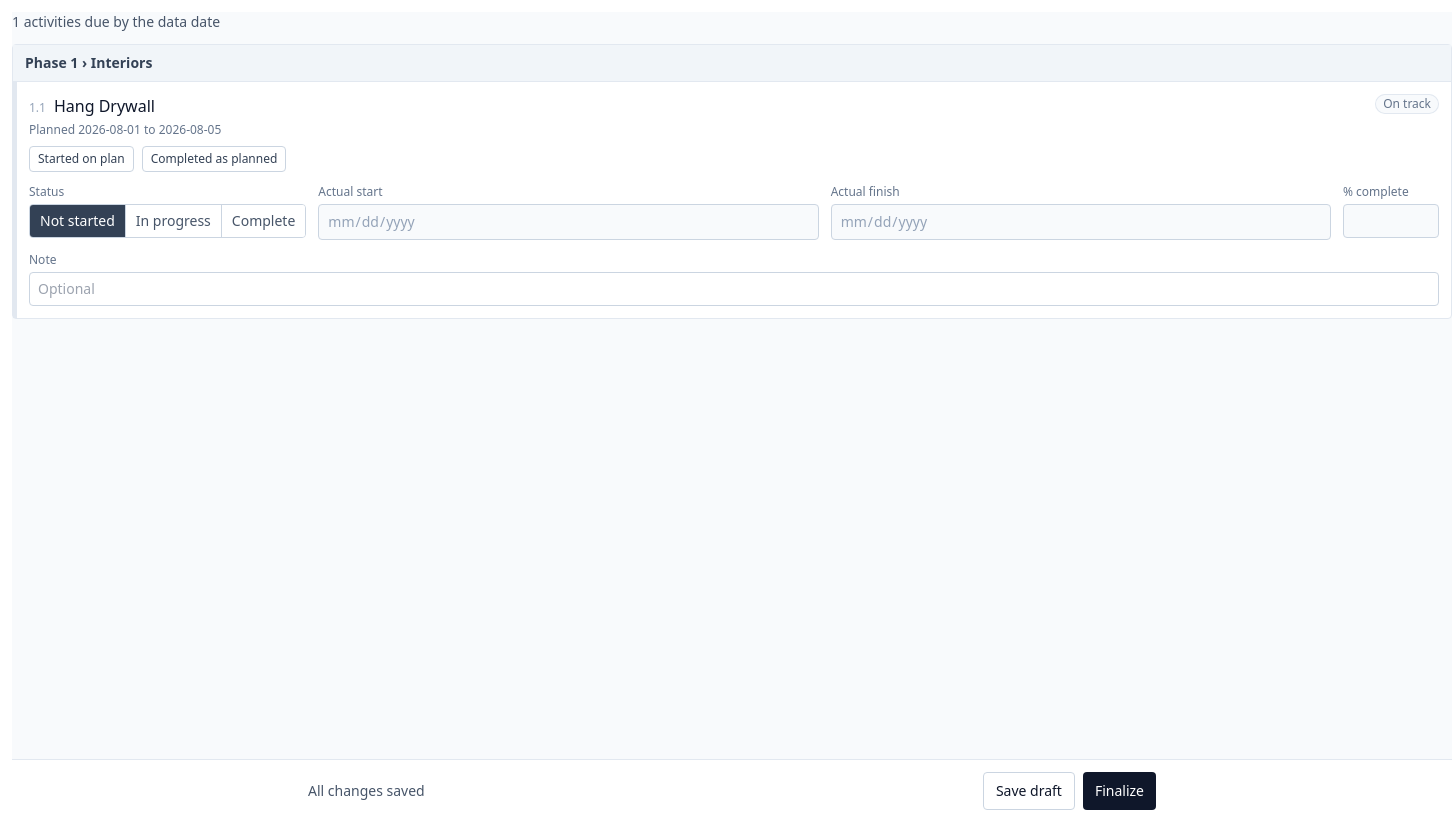
Test: LookaheadUpdateForm › quick actions fill from the plan
Click the button "Started on plan": (81, 159) [29,146,134,172]
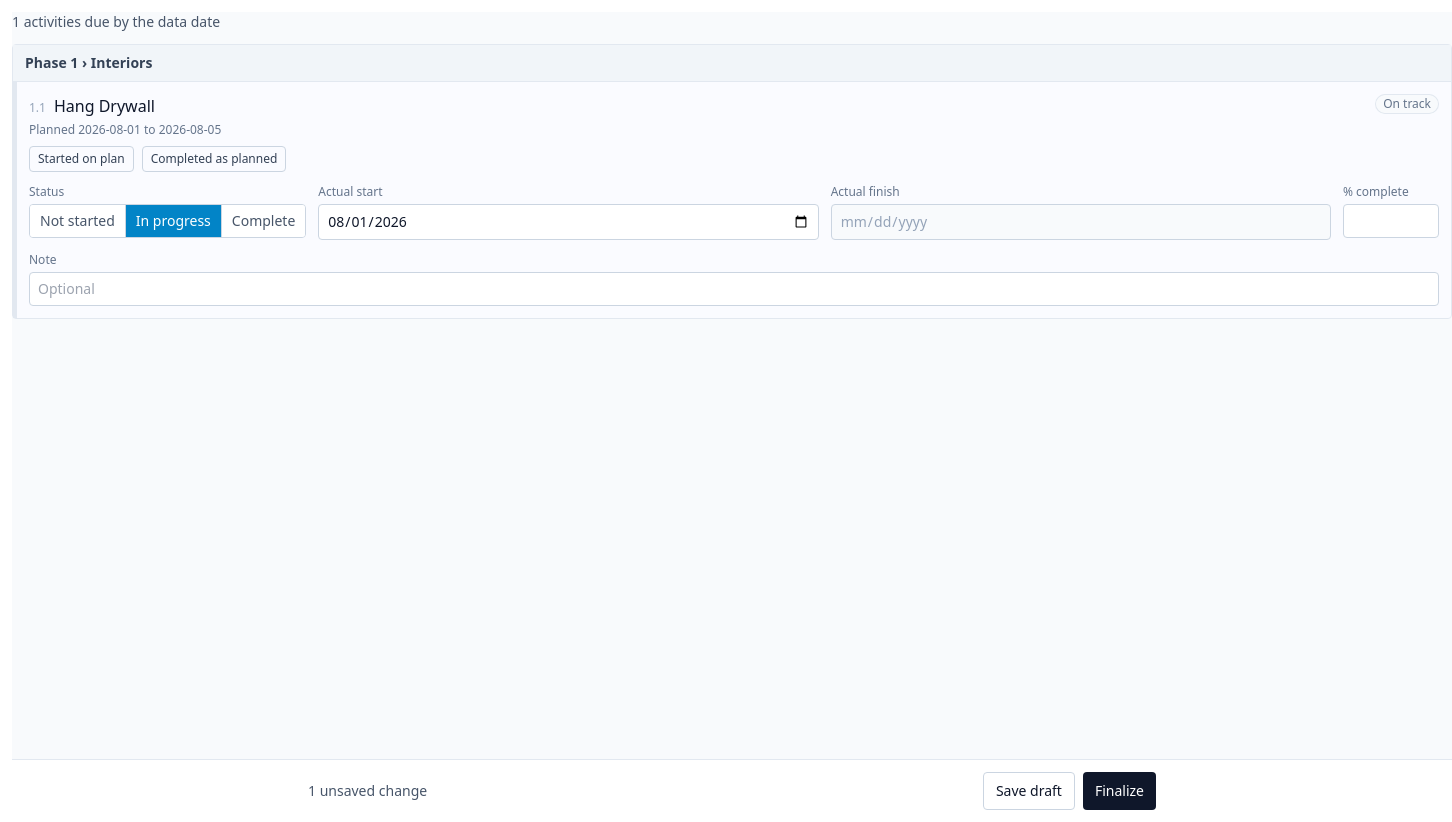
Expected: the date field labelled "Actual start" holds "2026-08-01", [318,204,819,240]
Click the button "Completed as planned": (214, 159) [142,146,286,172]
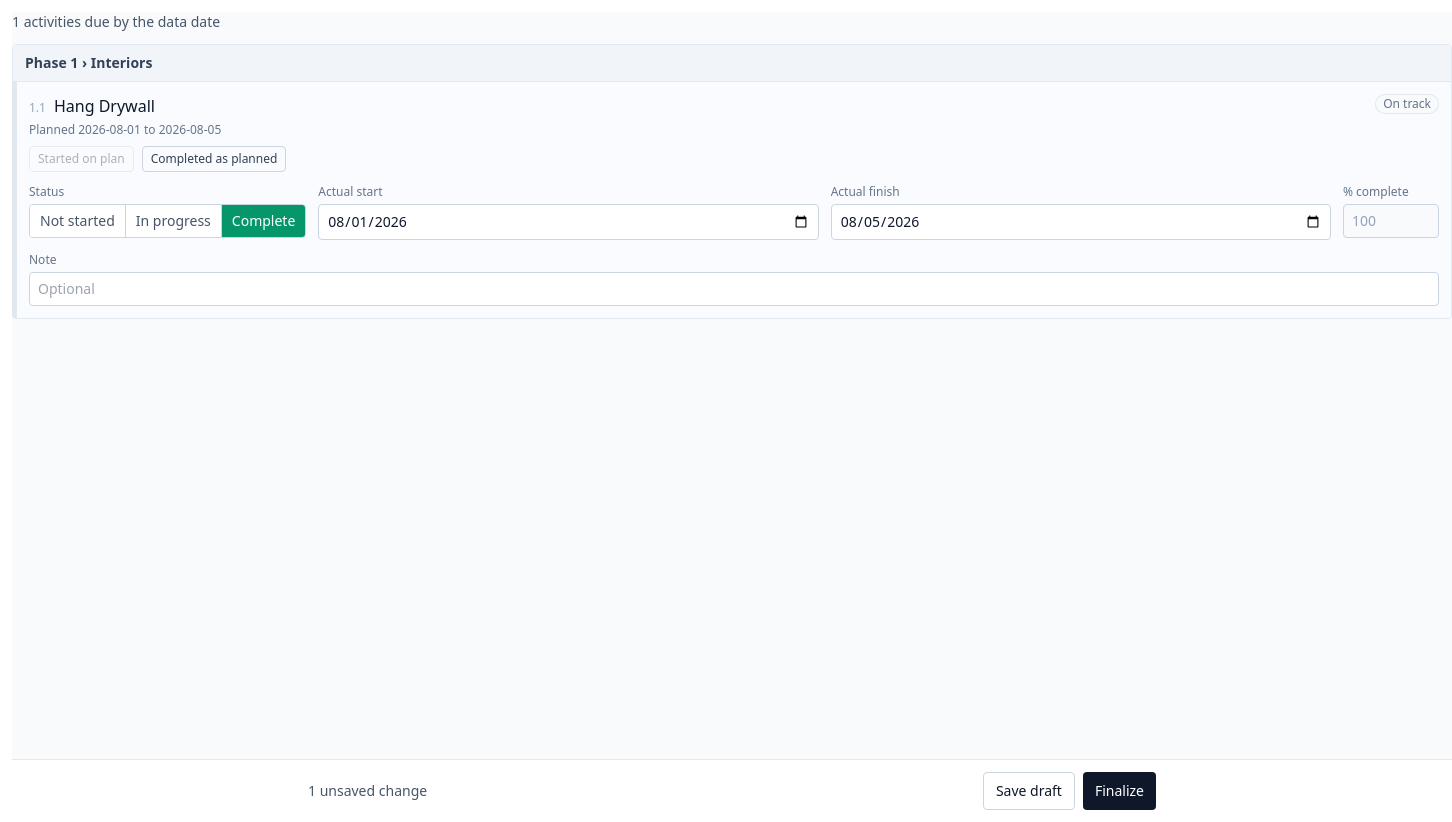
Expected: the date field labelled "Actual finish" holds "2026-08-05", [831,204,1331,240]
Expected: the number field labelled "% complete" holds "100", [1343,204,1439,238]
